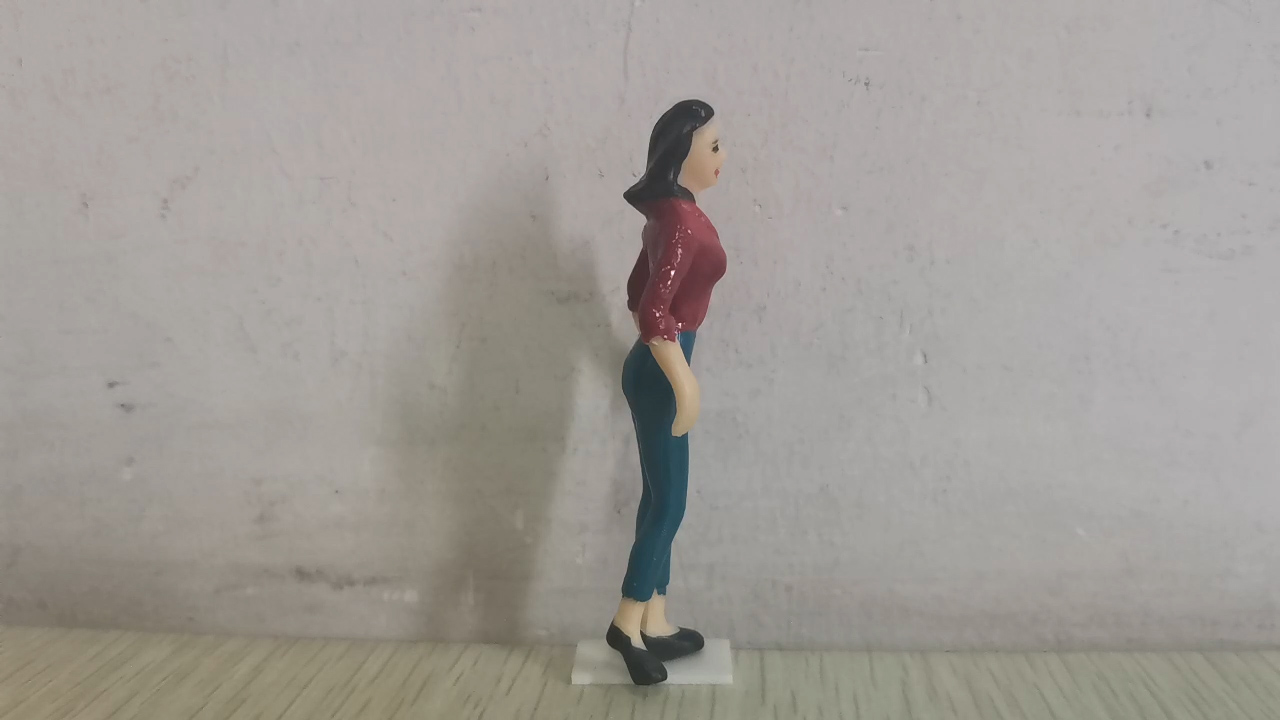person: (603, 97, 731, 688)
